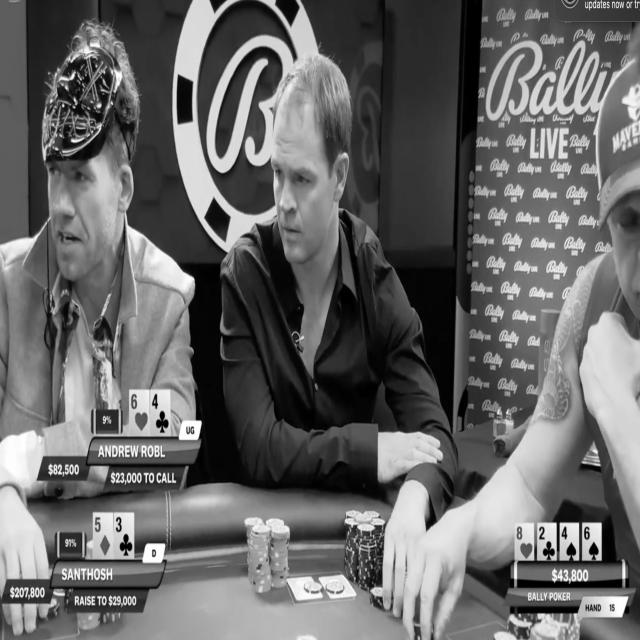2C: (538, 522, 556, 561)
3C: (114, 512, 134, 560)
4C: (150, 388, 170, 436)
4S: (560, 523, 579, 561)
5D: (94, 512, 113, 560)
6H: (130, 390, 150, 436)
6S: (583, 524, 601, 561)
8H: (515, 523, 534, 561)
